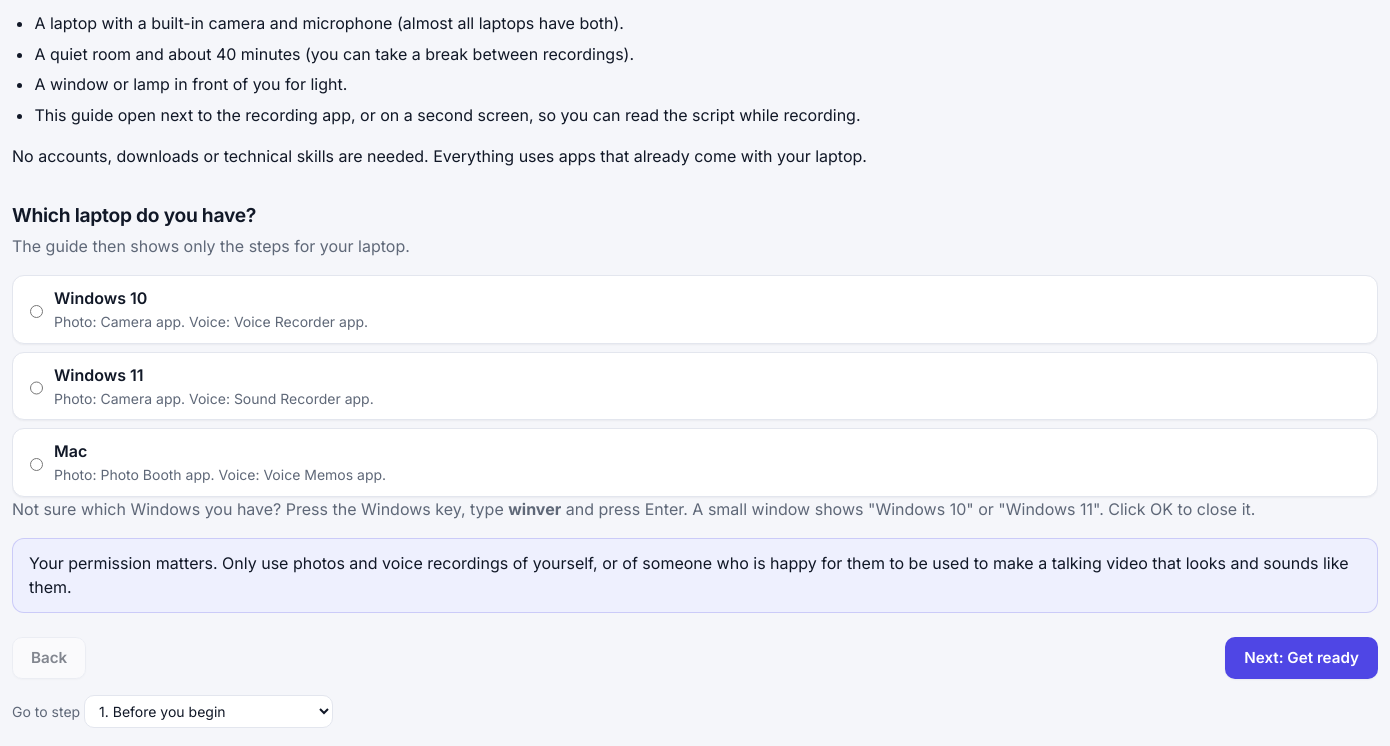
it: if the place can't be saved, the guide still works and logs why
(page scrolled)
Click the button "Next: Get ready".
click(1302, 658)  # box [1225,637,1378,679]
(page scrolled)
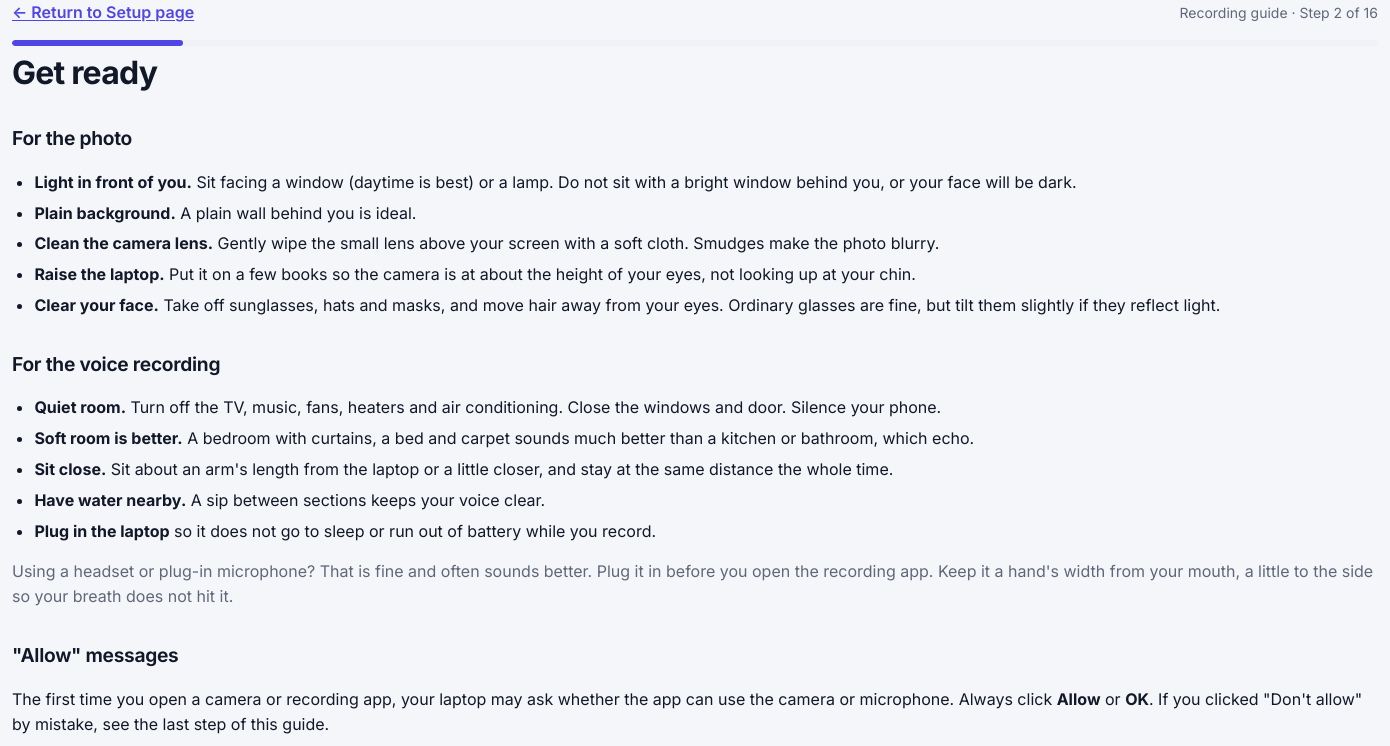
expect the heading "Get ready" is shown: met, box [12,53,157,92]
